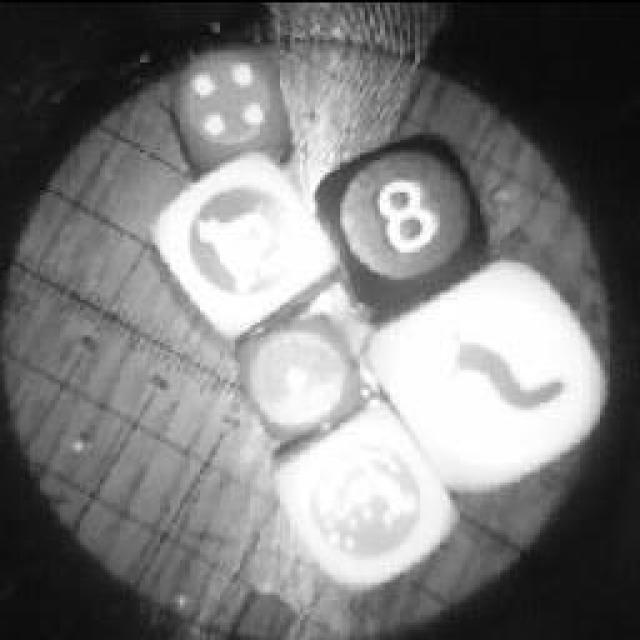dice_1: (225, 312, 373, 448)
dice_4: (160, 37, 305, 175)
